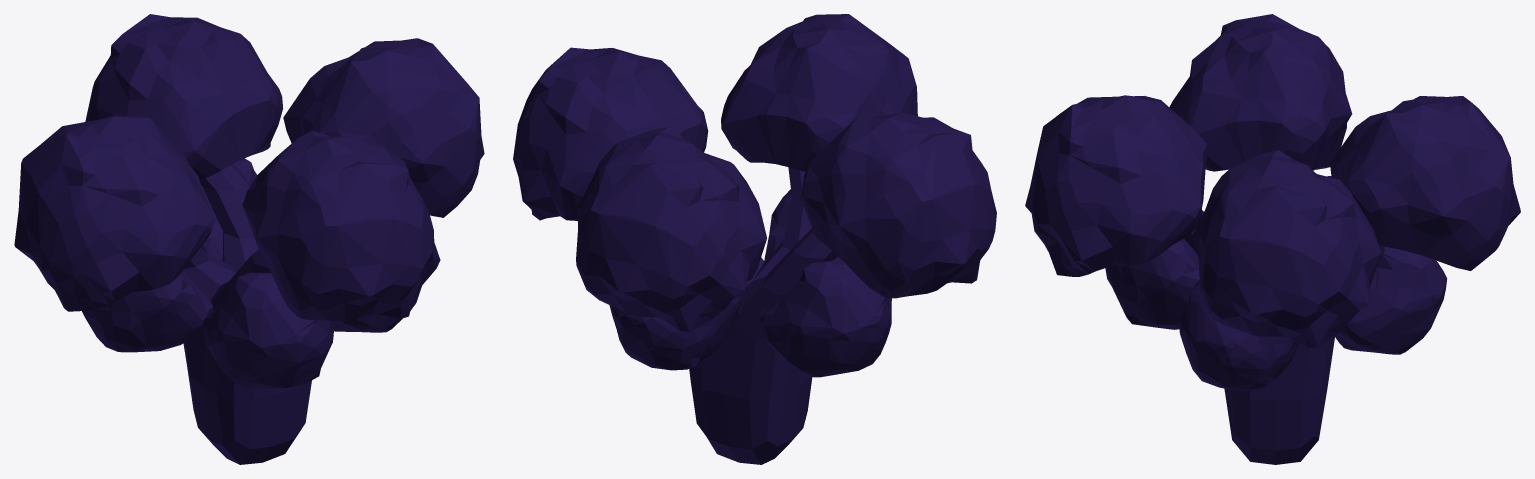
The model's file is Plant5.fbx.
The picture shows the model from 3 angles, left to right: view 1: azimuth 30°, elevation 25°; view 2: azimuth 150°, elevation 25°; view 3: azimuth 270°, elevation 25°; orthographic projection. The views are drawn at different scales.
Visible parts, largest first — view 1: Plane.135, Plane.129, Plane.133, Plane.131, Cube.016, Plane.107, Plane.134, Plane.130, Plane.132; view 2: Plane.133, Plane.135, Plane.129, Plane.131, Cube.016, Plane.134, Plane.132, Plane.107; view 3: Plane.131, Plane.129, Plane.133, Plane.135, Cube.016, Plane.132, Plane.130, Plane.107.
Boxes of the visible parts, left/top/right/bottom form: Plane.135: left=14, top=115, right=214, bottom=311; Plane.129: left=242, top=130, right=440, bottom=320; Plane.133: left=85, top=14, right=283, bottom=179; Plane.131: left=283, top=38, right=484, bottom=217; Cube.016: left=182, top=164, right=311, bottom=464; Plane.107: left=203, top=272, right=334, bottom=388; Plane.134: left=82, top=271, right=213, bottom=352; Plane.130: left=334, top=286, right=421, bottom=332; Plane.132: left=201, top=158, right=257, bottom=261; Plane.133: left=576, top=127, right=766, bottom=331; Plane.135: left=801, top=112, right=996, bottom=298; Plane.129: left=721, top=14, right=917, bottom=172; Plane.131: left=513, top=47, right=708, bottom=220; Cube.016: left=689, top=167, right=837, bottom=464; Plane.134: left=759, top=256, right=891, bottom=377; Plane.132: left=609, top=293, right=742, bottom=370; Plane.107: left=764, top=189, right=791, bottom=261; Plane.131: left=1192, top=150, right=1381, bottom=347; Plane.129: left=1025, top=95, right=1207, bottom=276; Plane.133: left=1330, top=96, right=1520, bottom=270; Plane.135: left=1169, top=14, right=1352, bottom=171; Cube.016: left=1184, top=210, right=1334, bottom=464; Plane.132: left=1334, top=245, right=1447, bottom=354; Plane.130: left=1178, top=280, right=1299, bottom=390; Plane.107: left=1105, top=239, right=1199, bottom=329.
Size of the model in its own units: 948 by 755 by 937.
